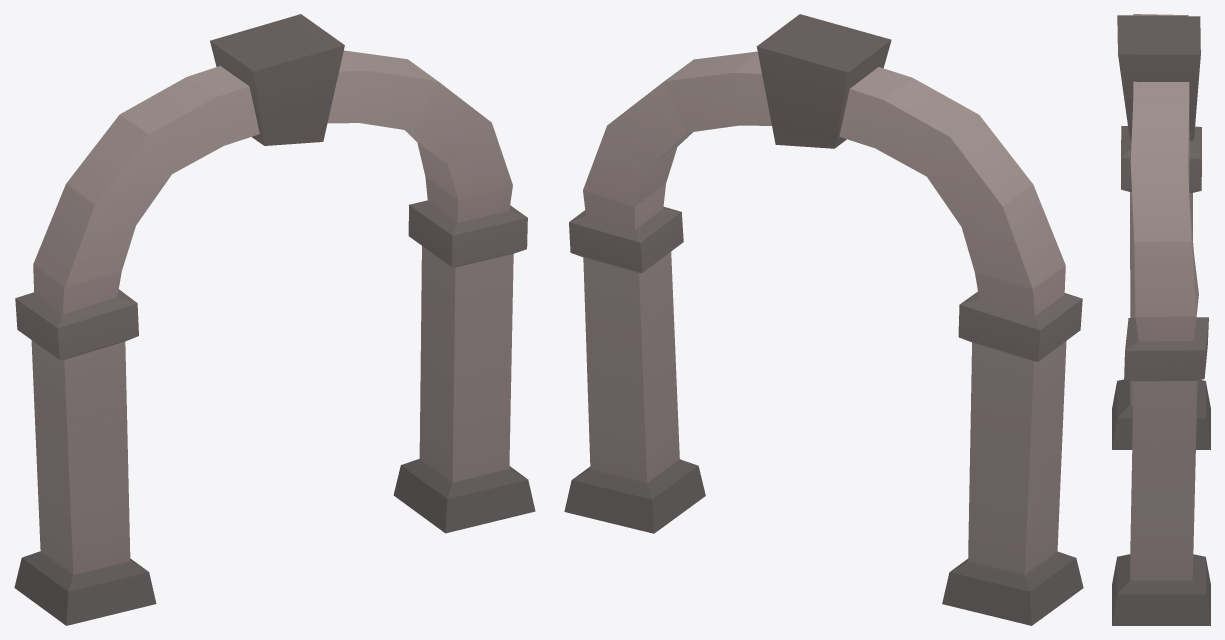
The model's file is village_town_arch.glb.
3 views of the same model, side by side, from view 1: azimuth 30°, elevation 25°; view 2: azimuth 150°, elevation 25°; view 3: azimuth 270°, elevation 25° (orthographic). The views are drawn at different scales.
Parts seen in each view (by area): view 1: Arch_Material.005_0; view 2: Arch_Material.005_0; view 3: Arch_Material.005_0.
Part boxes in pixels (x1=…): Arch_Material.005_0: x1=14, y1=14, x2=535, y2=625; Arch_Material.005_0: x1=564, y1=14, x2=1083, y2=625; Arch_Material.005_0: x1=1112, y1=14, x2=1210, y2=625.
Size of the model in its own units: 1.99 by 2.04 by 0.378.
Materials: 1 (1 with a texture image).
